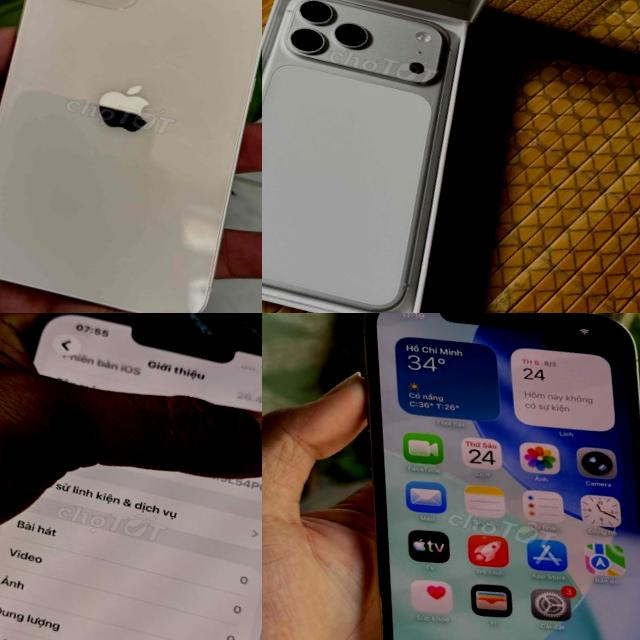gen_12_13: (262, 313, 640, 640), (0, 313, 262, 640), (0, 0, 262, 313)
gen_17: (262, 0, 474, 313)
